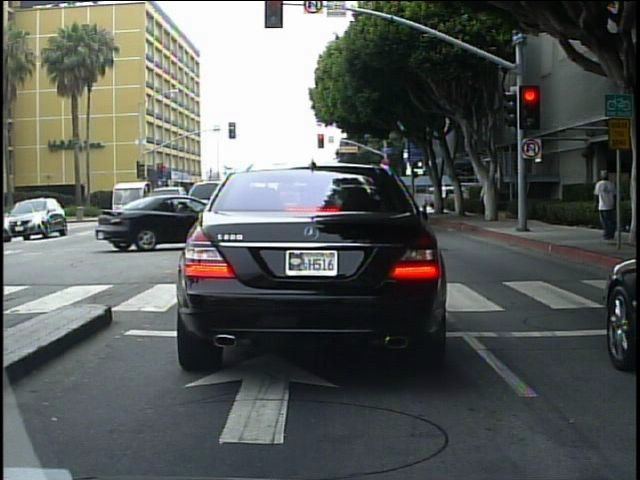person: (594, 166, 619, 241), (479, 176, 493, 219), (437, 179, 451, 213), (630, 165, 632, 255)
